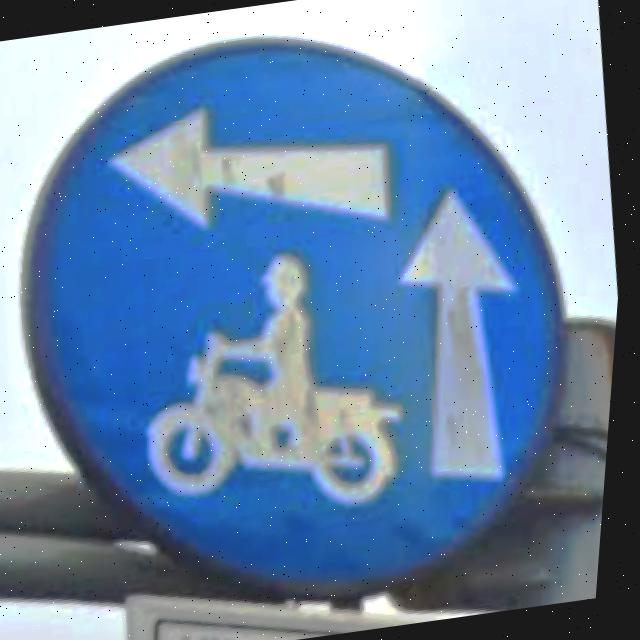twostageturn: (46, 49, 565, 583)
